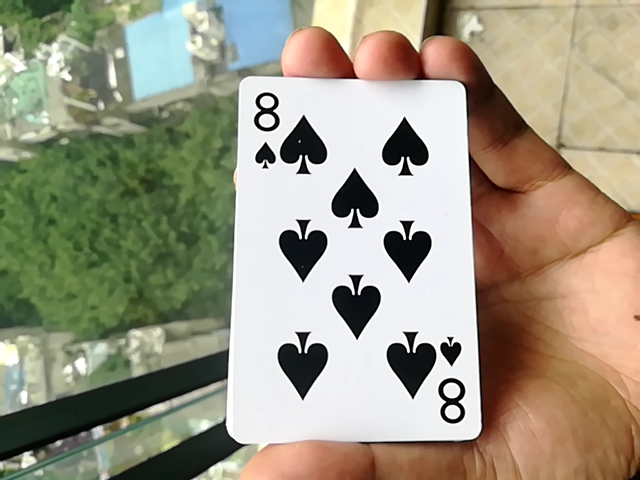ht 8: (223, 64, 468, 451)
